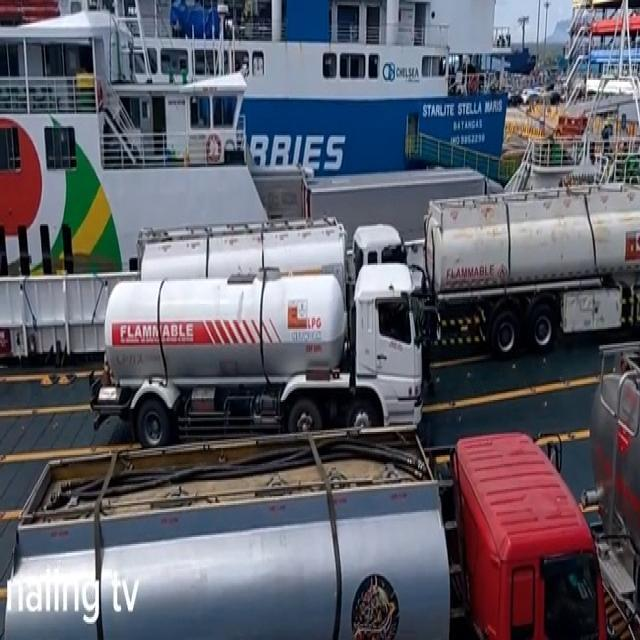truck: (0, 424, 605, 640), (92, 260, 426, 444), (424, 186, 640, 356), (138, 222, 409, 322)
